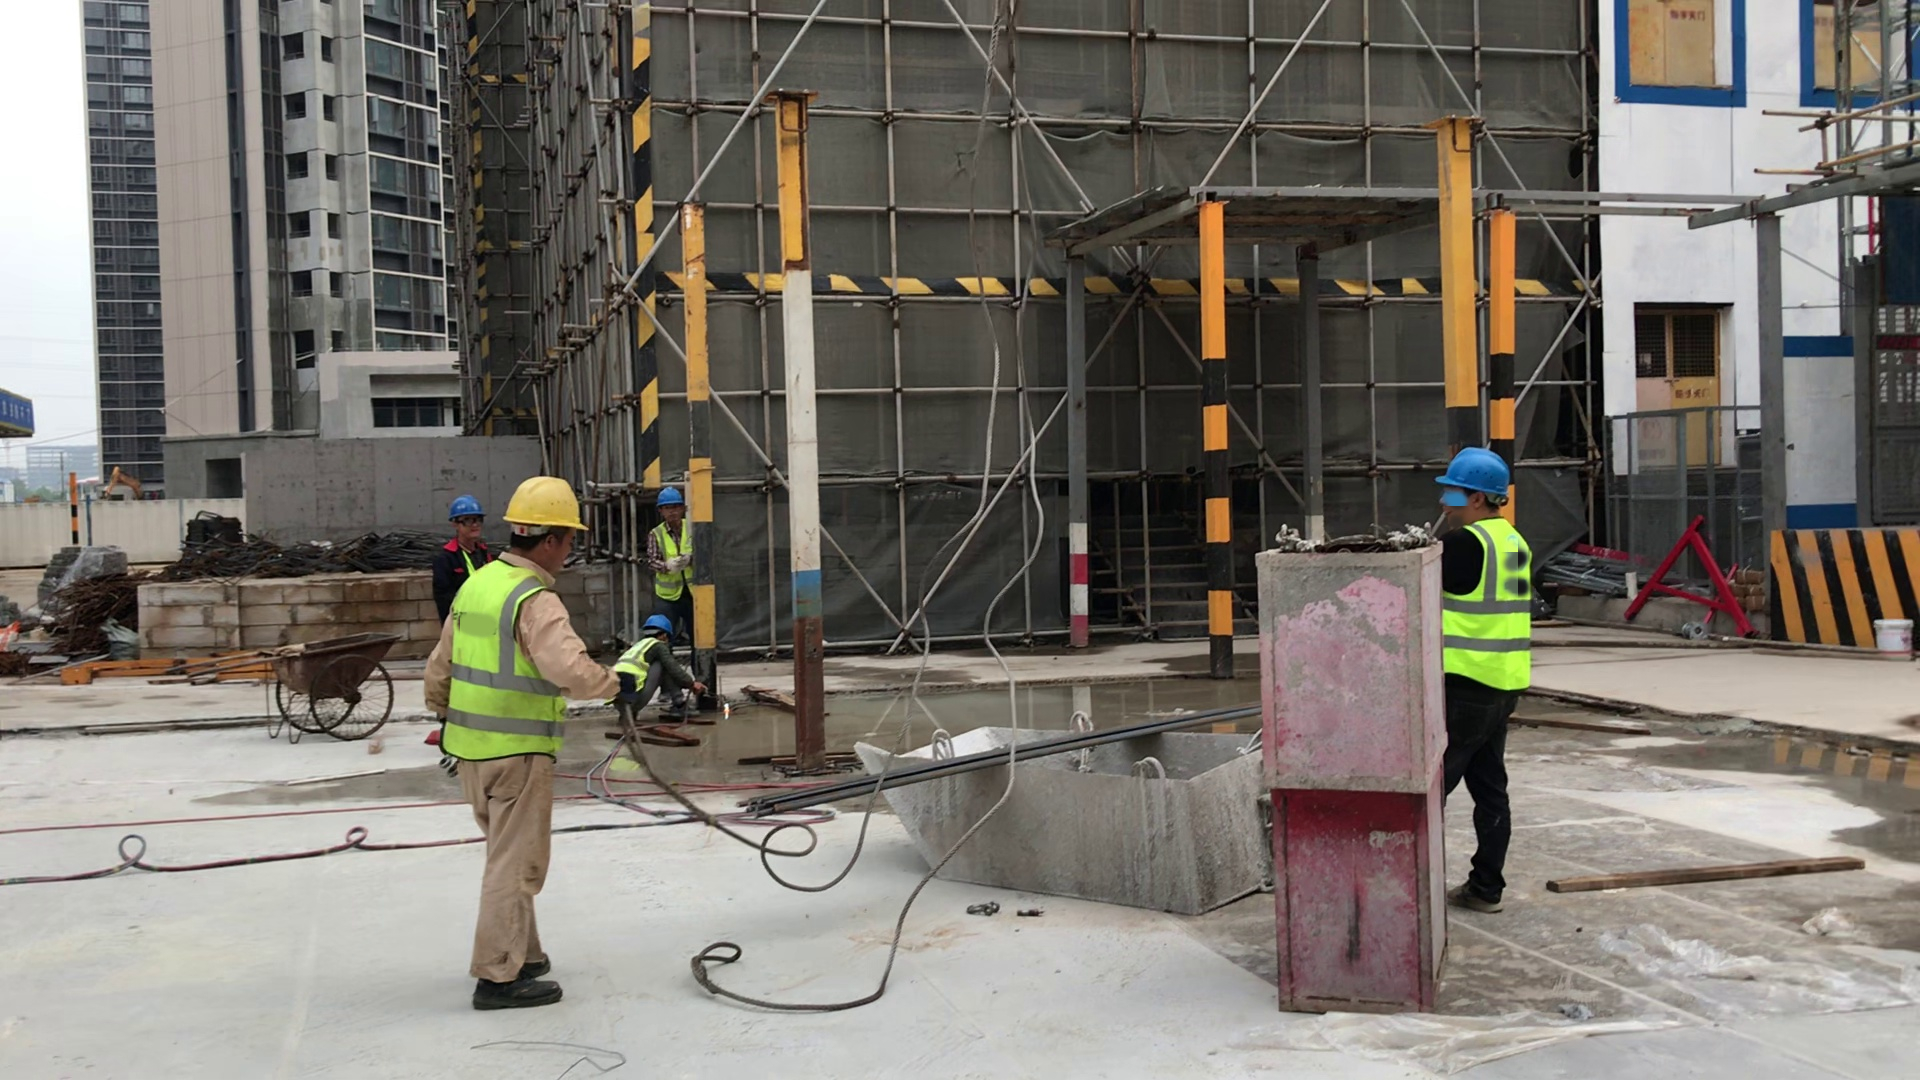helmet: (1431, 441, 1528, 511), (501, 470, 589, 533), (446, 489, 485, 523), (639, 607, 681, 639), (654, 481, 689, 512)
person: (421, 468, 589, 1033), (1428, 445, 1585, 939), (613, 607, 694, 747), (648, 469, 697, 626), (432, 491, 490, 620)
vest: (440, 556, 586, 773), (1433, 519, 1540, 697), (651, 524, 705, 597), (612, 638, 661, 699), (447, 542, 488, 583)
